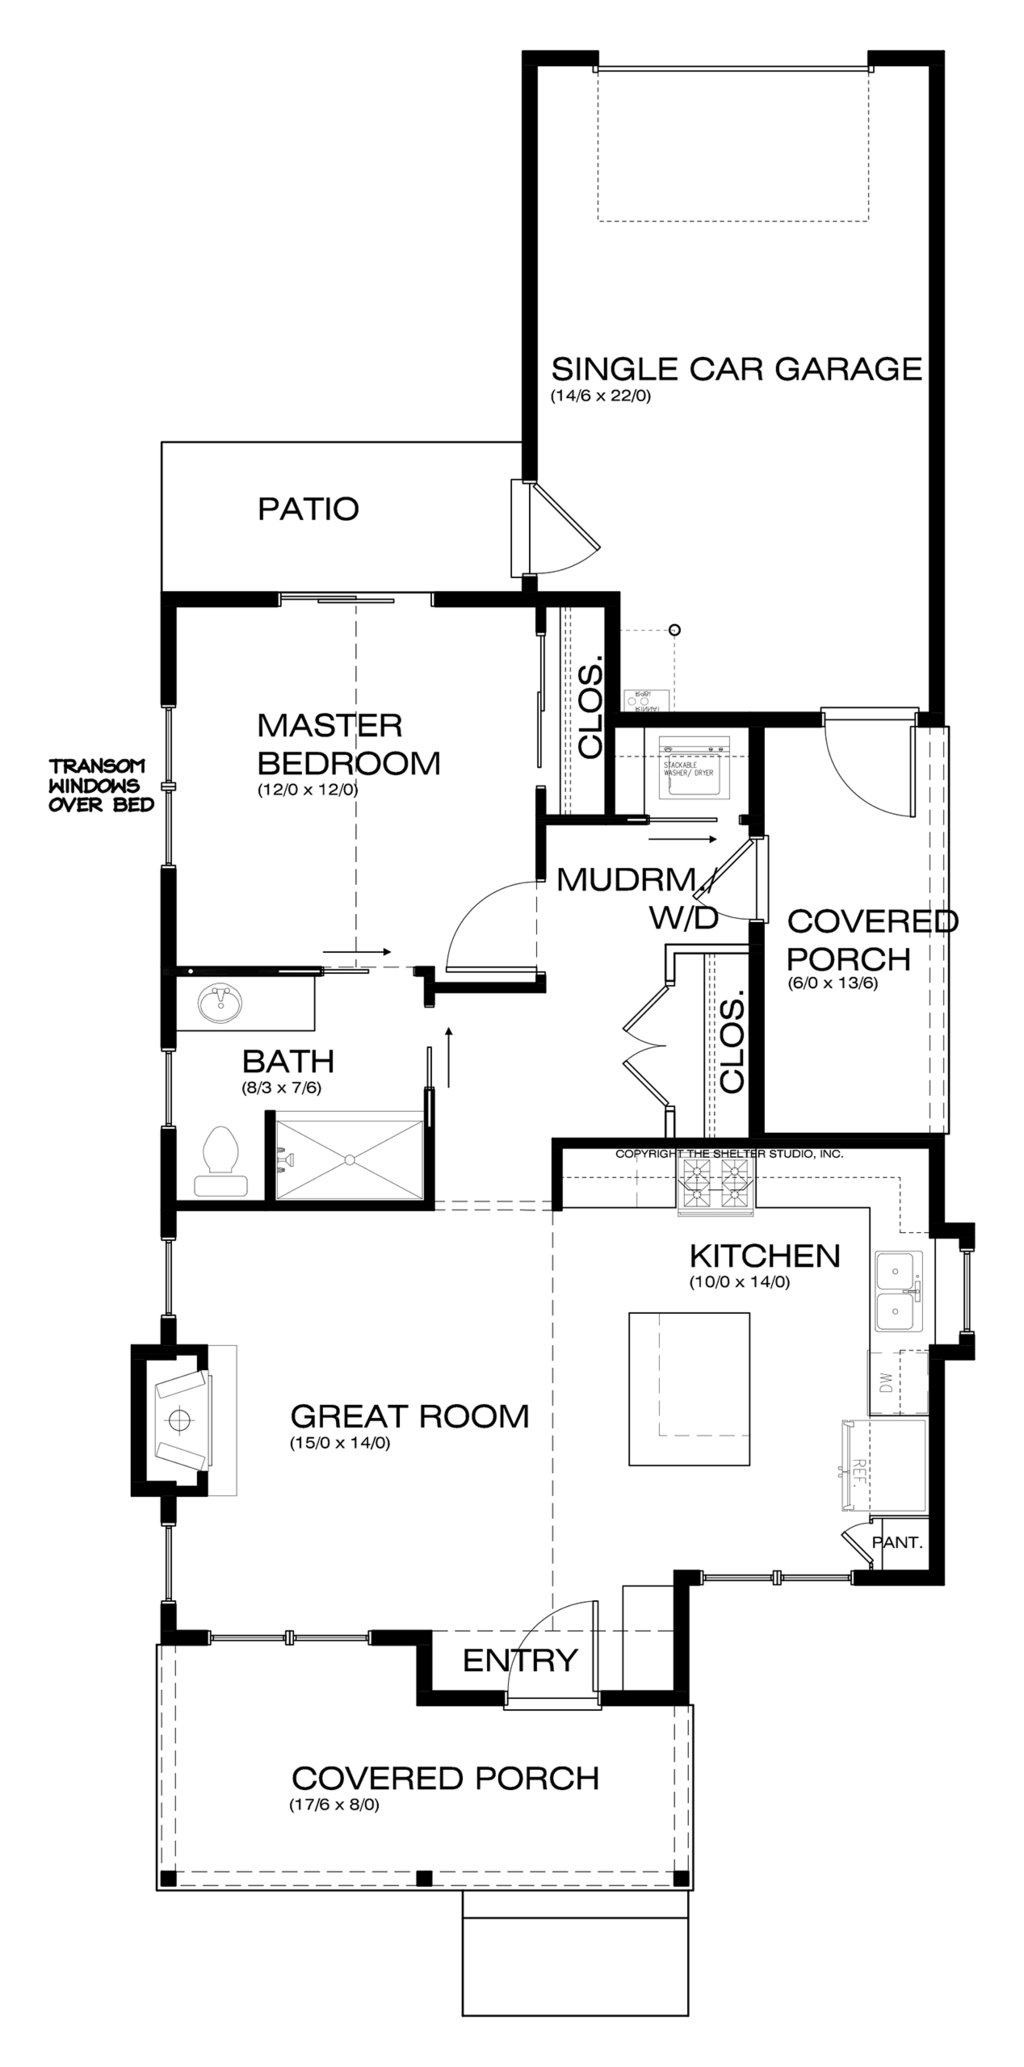door: (484, 1592, 613, 1722), (420, 852, 559, 970), (811, 703, 930, 838), (608, 968, 688, 1144), (497, 477, 617, 587), (688, 828, 782, 935)
kitchen_bar: (610, 1302, 784, 1534)
large_sink: (185, 1106, 271, 1200)
small_sink: (185, 979, 314, 1037)
twin_sink: (878, 1251, 923, 1345)
window: (275, 567, 436, 618)
